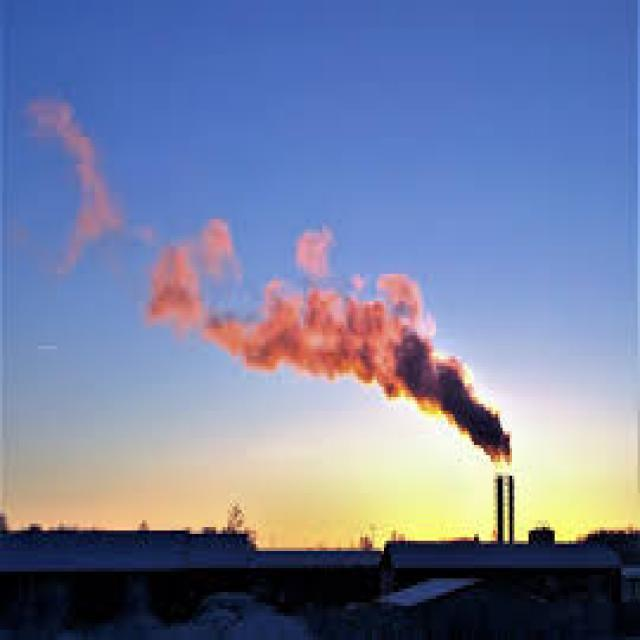Smoke: (231, 291, 526, 470)
